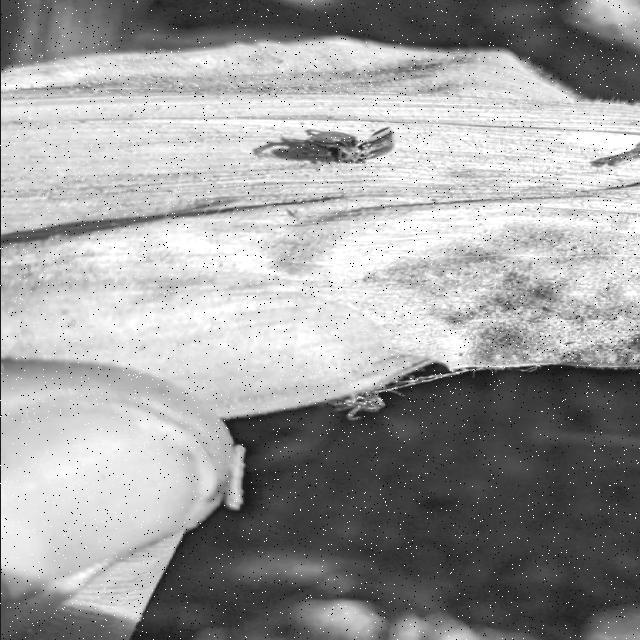trips: (294, 126, 400, 162)
